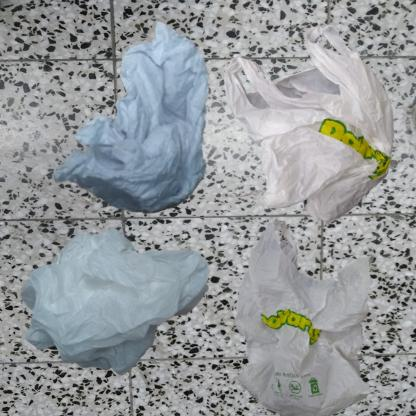bolsa: (213, 10, 416, 265), (213, 213, 416, 416), (10, 213, 233, 396)
papel: (10, 10, 299, 287)
